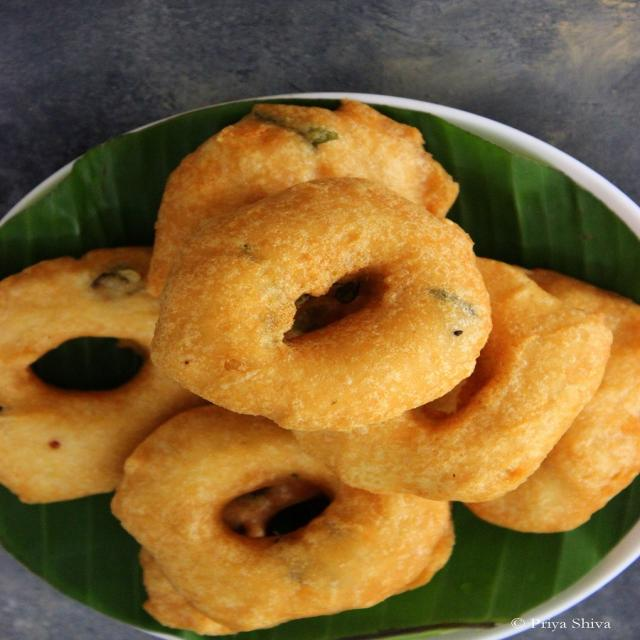medu vadai: (151, 177, 491, 431), (112, 405, 453, 633), (294, 258, 611, 502), (147, 100, 458, 296), (0, 247, 206, 502), (466, 269, 639, 533)
